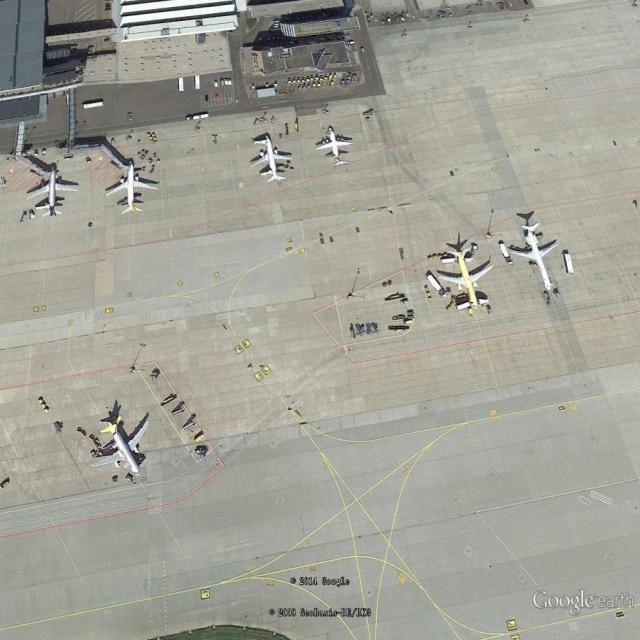aircraft: (435, 242, 498, 315), (504, 219, 563, 295), (89, 414, 153, 482), (103, 161, 163, 219), (24, 166, 83, 219), (247, 133, 295, 187), (315, 125, 356, 170)
